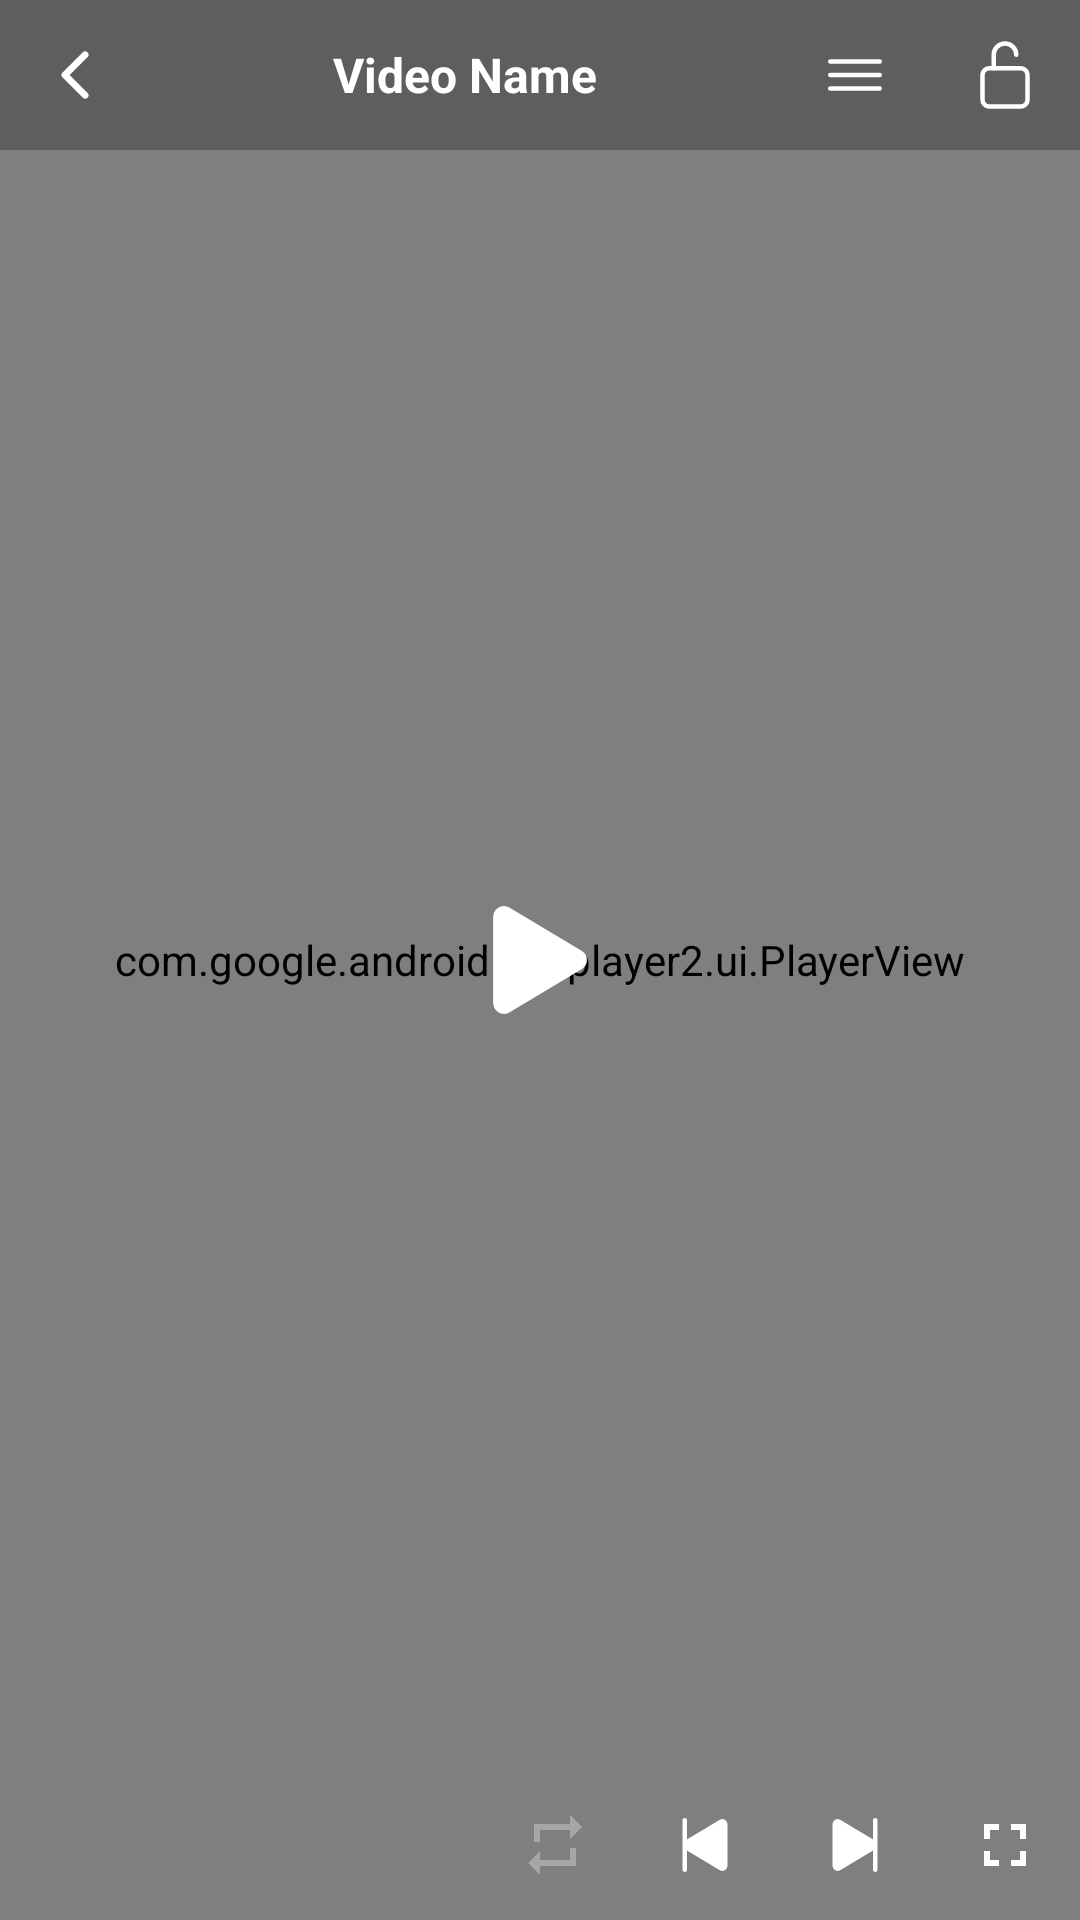

Named icons in this screenshot (1080px x 1920px) and their centers, [x,y]:
back: [75,75]
fullscreen: [1005,1845]
lock open: [1005,75]
menu: [855,75]
play skip back: [705,1845]
play skip forward: [855,1845]
repeat: [555,1845]
